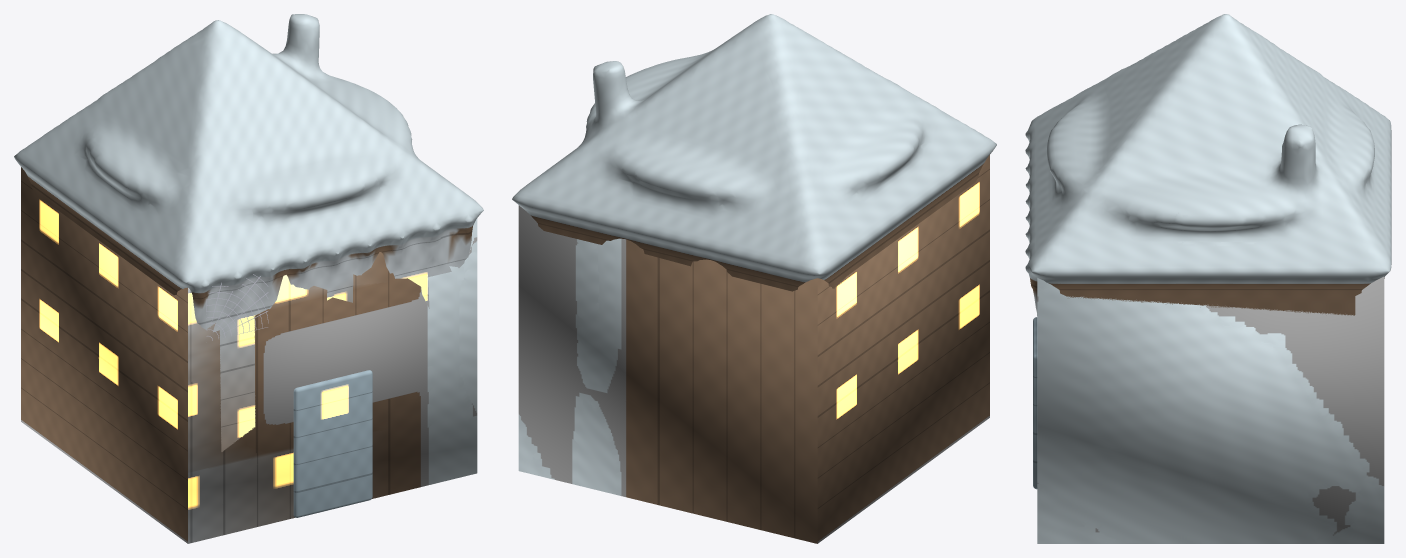
File: house_frosty.glb
3 views of the same model, side by side, from view 1: azimuth 30°, elevation 25°; view 2: azimuth 150°, elevation 25°; view 3: azimuth 270°, elevation 25° (orthographic). The views are drawn at different scales.
Visible parts, largest first — view 1: col, lod0, door, cobweb; view 2: col, lod0; view 3: lod0, col, door.
Part boxes in pixels (x1,y1,x2,y2): col: (21,167,477,543); lod0: (14,14,483,451); door: (293,370,372,517); cobweb: (206,274,268,340); col: (518,155,989,543); lod0: (512,14,996,291); lod0: (1025,14,1391,315); col: (1037,276,1384,543); door: (1033,317,1037,489).
Size of what is drawn, in the model's own units: 7.28 by 9.87 by 7.38.
2 materials, 2 textured.
